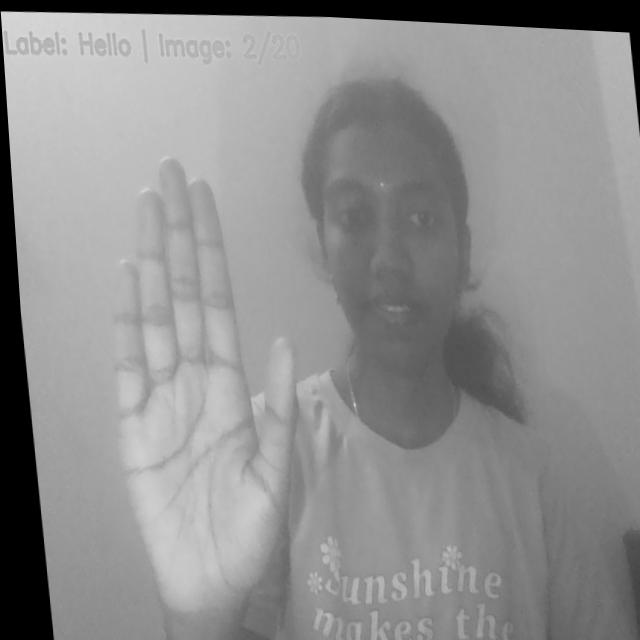Hello: (80, 138, 325, 640)
